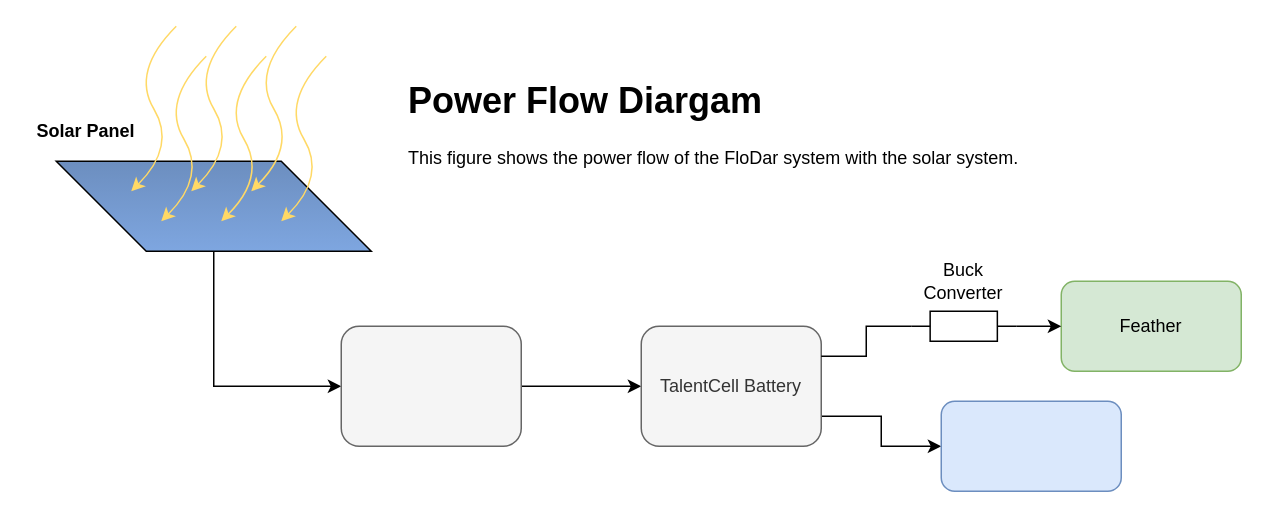
The diagram is 1268 pixels wide and 518 high, and some of its shapes have lost their labels. The box of each missing label's shape, as (x1, y1, x2, y2) in pixels:
Solar Converter: (340, 325, 521, 446)
TUF-2000M: (940, 400, 1121, 491)
